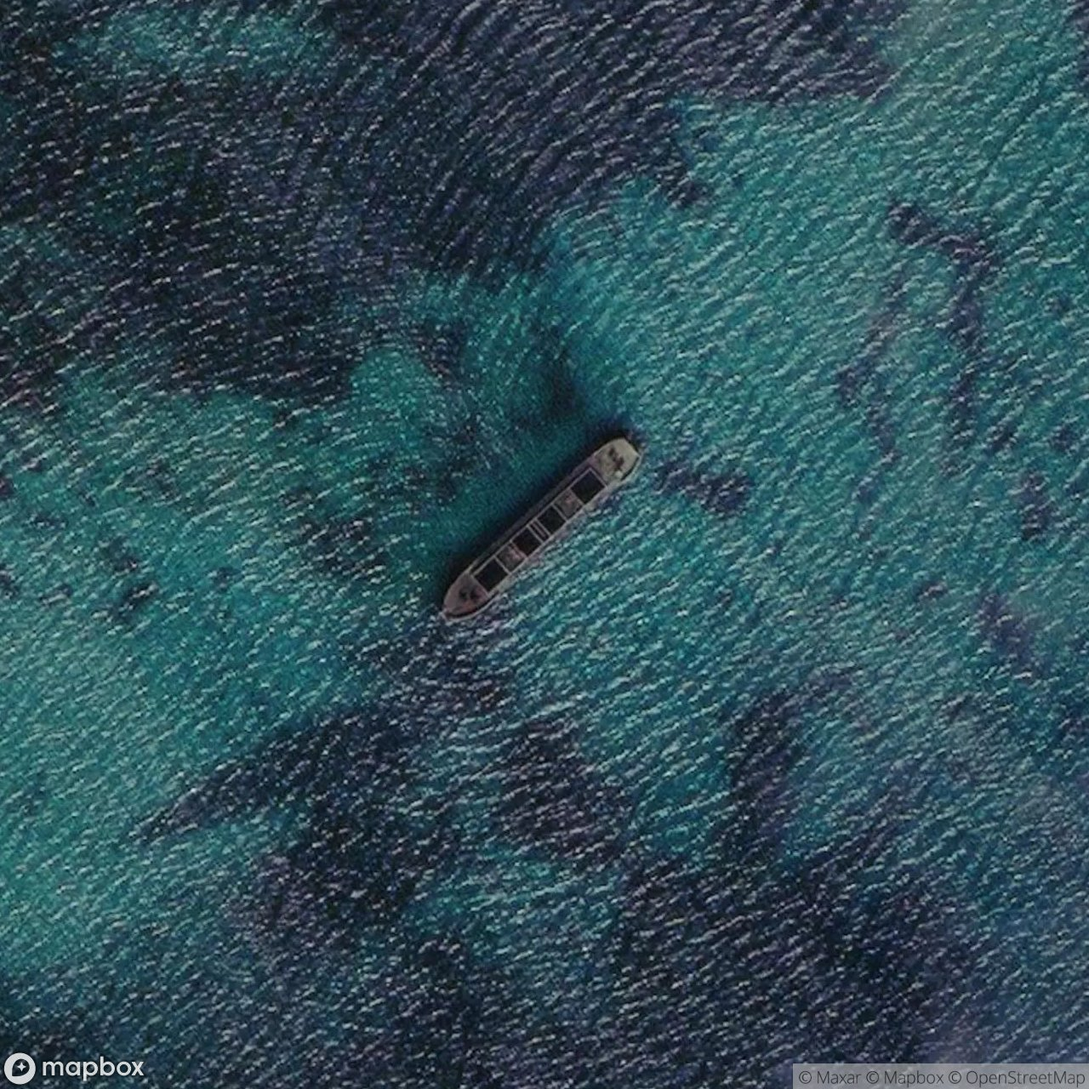Wreck: (370, 576, 673, 695)
